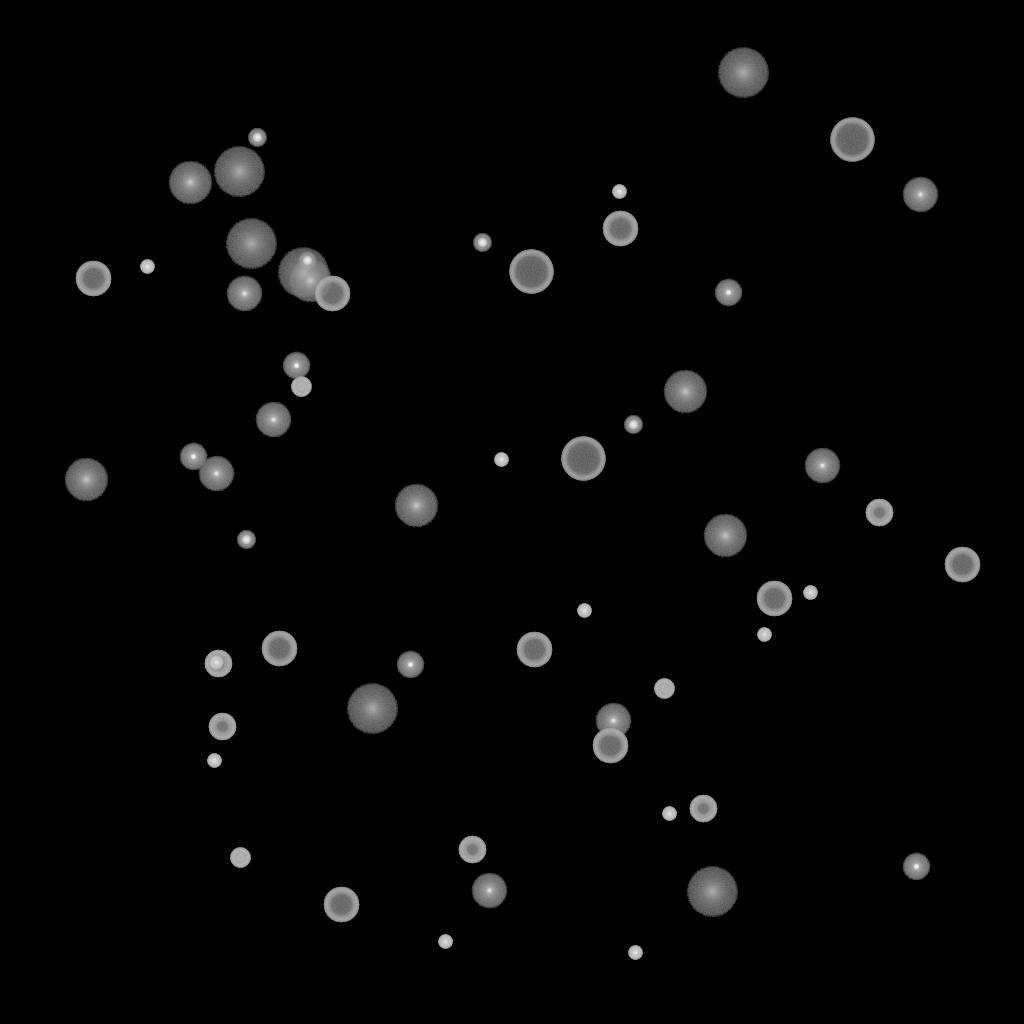depth:-10: (282, 352, 310, 380), (902, 853, 930, 881), (179, 443, 207, 471), (714, 279, 742, 307), (396, 651, 424, 679)
depth:-20: (248, 129, 266, 147), (298, 252, 316, 270), (237, 531, 255, 549), (473, 234, 491, 252), (624, 416, 642, 434)
depth:-30: (494, 453, 508, 467), (140, 260, 154, 274), (662, 807, 676, 821), (209, 656, 223, 670), (438, 935, 452, 949), (577, 604, 591, 618), (612, 185, 626, 199), (628, 946, 642, 960), (757, 628, 771, 642), (207, 754, 221, 768), (803, 586, 817, 600)
depth:-40: (291, 377, 311, 397), (230, 848, 250, 868), (654, 679, 674, 699)
depth:-50: (204, 650, 232, 678), (689, 795, 717, 823), (208, 713, 236, 741), (865, 499, 893, 527), (458, 836, 486, 864)
depth:-60: (75, 261, 111, 297), (592, 728, 628, 764), (602, 211, 638, 247), (314, 276, 350, 312), (516, 632, 552, 668), (944, 547, 980, 583), (323, 887, 359, 923), (756, 581, 792, 617), (261, 631, 297, 667)
depth:-70: (509, 250, 553, 294), (830, 118, 874, 162), (561, 437, 605, 481)
depth:0: (255, 402, 291, 438), (471, 873, 507, 909), (595, 703, 631, 739), (804, 448, 840, 484), (198, 456, 234, 492), (902, 177, 938, 213), (226, 276, 262, 312)
depth:10: (168, 161, 212, 205), (703, 514, 747, 558), (663, 370, 707, 414), (64, 458, 108, 502), (394, 484, 438, 528), (288, 259, 332, 303)
depth:20: (225, 219, 277, 269), (686, 867, 738, 917), (717, 48, 769, 98), (346, 684, 398, 734), (277, 248, 329, 298), (213, 147, 265, 197)
